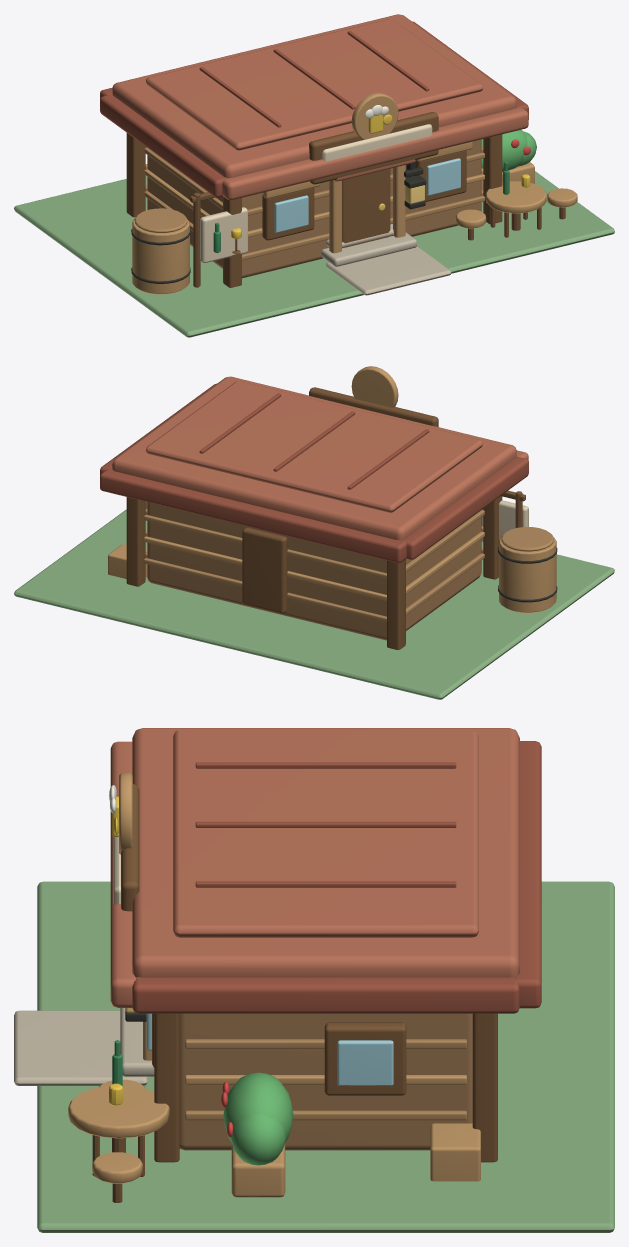
The model's file is bar.fbx.
The picture shows the model from 3 angles, top to bottom: view 1: azimuth 30°, elevation 25°; view 2: azimuth 150°, elevation 25°; view 3: azimuth 270°, elevation 25°; orthographic projection. The views are drawn at different scales.
Visible parts, largest first — view 1: Base_Grass_Tile, Roof_Top_Inset, Roof_Main_Slab, Building_Main_Wooden_Body, Roof_Front_Lip, Barrel_Upright_Body, Path_Front, Roof_Left_Lip, Door, SideSign_Board, MainSign_Back_Frame, Step_Lower (+23 smaller); view 2: Base_Grass_Tile, Roof_Top_Inset, Building_Main_Wooden_Body, Roof_Main_Slab, Roof_Back_Lip, Back_Door_Simple, Barrel_Upright_Body, Roof_Left_Lip, Post_BR, Post_BL, BeerIcon_Round_Backplate, Back_Wood_Board_1 (+13 smaller); view 3: Base_Grass_Tile, Roof_Top_Inset, Roof_Main_Slab, Building_Main_Wooden_Body, Roof_Right_Lip, Path_Front, Roof_Back_Lip, Outdoor_Table_Top, Right_Side_Window_Frame, Post_BR, Post_FR, Roof_Front_Lip (+15 smaller).
Boxes of the visible parts, x1,y1,x2,y2 form: Base_Grass_Tile: (14, 171, 614, 337); Roof_Top_Inset: (146, 19, 482, 150); Roof_Main_Slab: (112, 14, 516, 178); Building_Main_Wooden_Body: (147, 139, 481, 278); Roof_Front_Lip: (222, 107, 528, 200); Barrel_Upright_Body: (132, 219, 189, 294); Path_Front: (326, 246, 451, 295); Roof_Left_Lip: (100, 94, 226, 197); Door: (342, 169, 390, 247); SideSign_Board: (200, 207, 247, 262); MainSign_Back_Frame: (309, 112, 438, 184); Step_Lower: (321, 232, 416, 266); Base_Grass_Tile: (14, 509, 614, 699); Roof_Top_Inset: (146, 381, 482, 512); Building_Main_Wooden_Body: (147, 502, 481, 640); Roof_Main_Slab: (112, 376, 516, 540); Roof_Back_Lip: (100, 469, 406, 562); Back_Door_Simple: (242, 527, 287, 613); Barrel_Upright_Body: (499, 537, 556, 612); Roof_Left_Lip: (402, 456, 528, 559); Post_BR: (126, 497, 145, 586); Post_BL: (387, 559, 405, 649); BeerIcon_Round_Backplate: (351, 366, 398, 407); Back_Wood_Board_1: (144, 558, 386, 622); Base_Grass_Tile: (37, 881, 614, 1232); Roof_Top_Inset: (173, 730, 478, 937); Roof_Main_Slab: (132, 728, 519, 977); Building_Main_Wooden_Body: (179, 1013, 472, 1150); Roof_Right_Lip: (132, 977, 519, 1013); Path_Front: (14, 1010, 147, 1085); Roof_Back_Lip: (515, 741, 541, 1008); Outdoor_Table_Top: (68, 1085, 169, 1138); Right_Side_Window_Frame: (324, 1022, 406, 1095); Post_BR: (472, 1013, 497, 1162); Post_FR: (154, 1013, 179, 1162); Roof_Front_Lip: (110, 741, 136, 1007).
Bounding box in the file's own units: 580 × 224 × 426.
